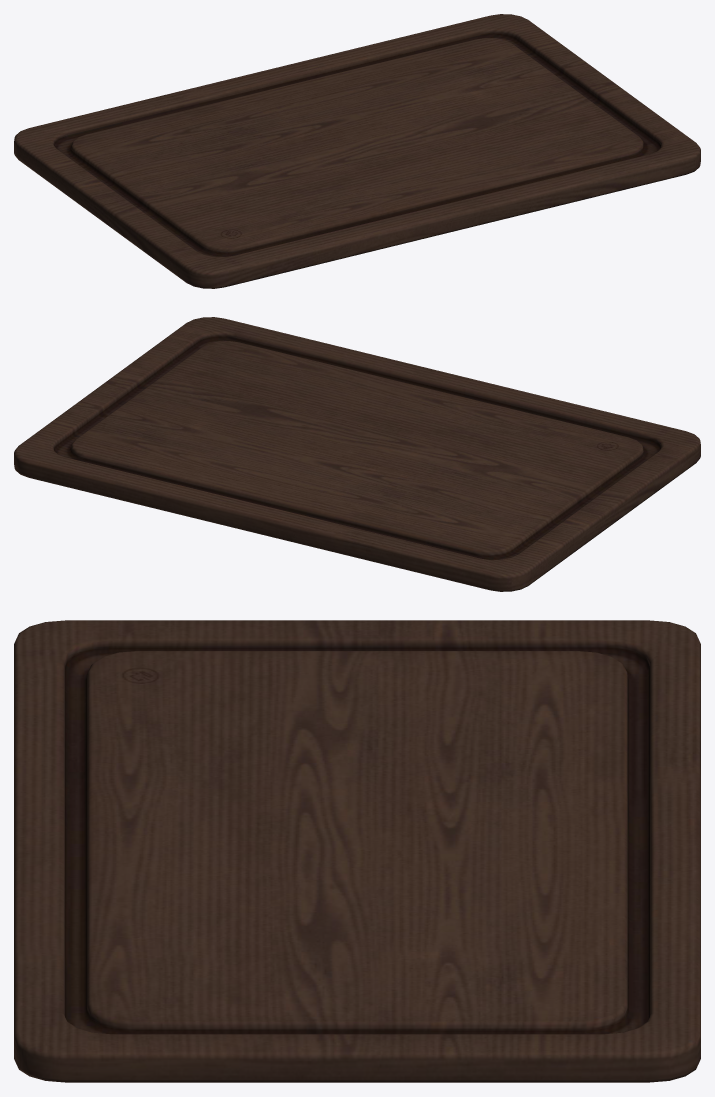
The model's file is CuttingBoard_Visual.fbx.
3 renders of one model, top to bottom at view 1: azimuth 30°, elevation 25°; view 2: azimuth 150°, elevation 25°; view 3: azimuth 270°, elevation 25°, orthographic. The views are drawn at different scales.
Visible parts, largest first — view 1: CuttingBoard; view 2: CuttingBoard; view 3: CuttingBoard.
Boxes of the visible parts, box(x1,y1,x2,y2) form: CuttingBoard: box(14, 14, 700, 288); CuttingBoard: box(14, 317, 700, 591); CuttingBoard: box(14, 620, 700, 1082).
Size of the model in its own units: 45.72 by 1.5 by 30.48.
Materials: 1 (1 with a texture image).
